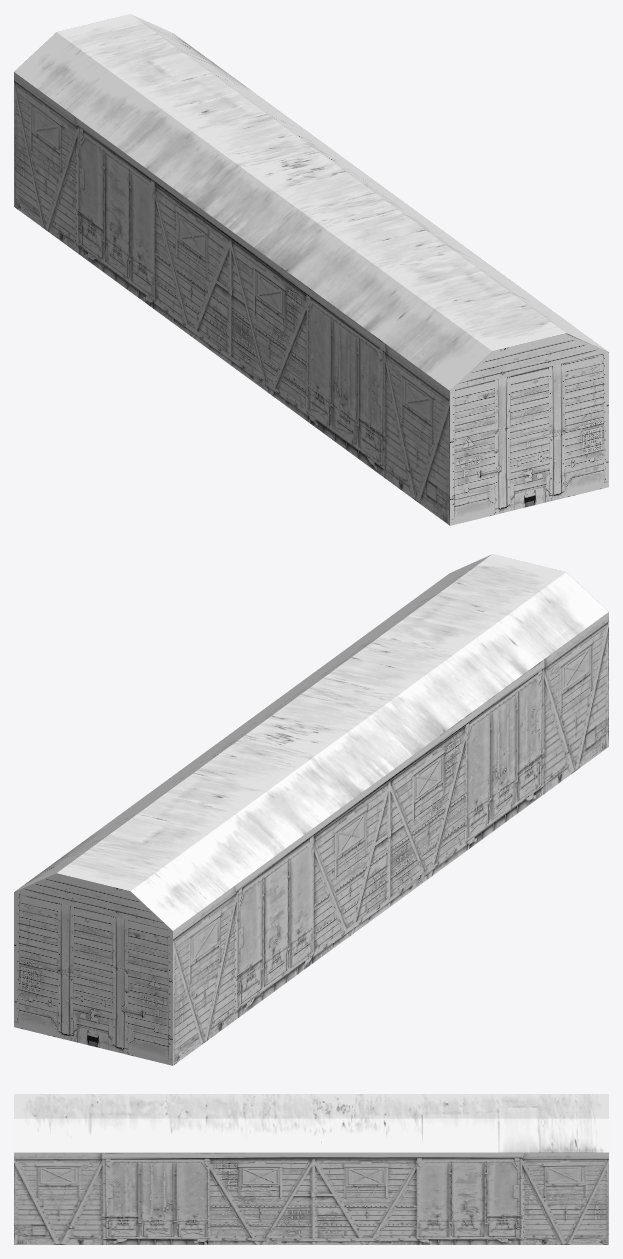
Rendered from BoxCar.fbx.
The picture shows the model from 3 angles, top to bottom: view 1: azimuth 30°, elevation 25°; view 2: azimuth 150°, elevation 25°; view 3: azimuth 270°, elevation 25°; orthographic projection. The views are drawn at different scales.
Visible parts, largest first — view 1: Cube.001; view 2: Cube.001; view 3: Cube.001.
Boxes of the visible parts, x1,y1,x2,y2 form: Cube.001: (14,14,608,525); Cube.001: (14,554,608,1065); Cube.001: (14,1094,608,1244).
Size of the model in its own units: 320 by 316 by 1520.
Materials: 1 (1 with a texture image).
